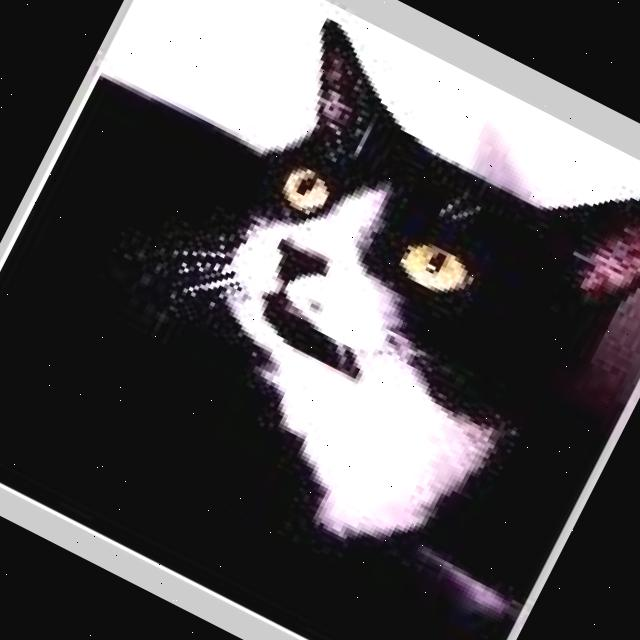cat-eye-normal: (374, 220, 494, 320), (258, 142, 354, 238)
